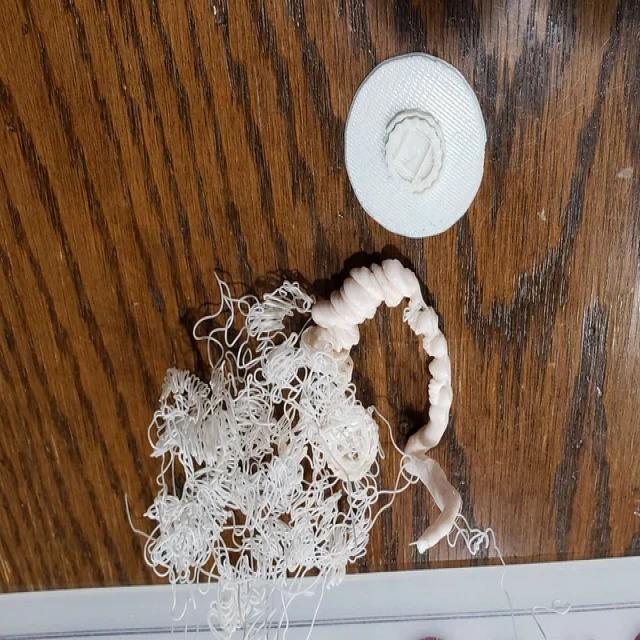Spaghetti: (139, 385, 284, 581), (224, 284, 308, 398), (290, 484, 366, 572), (312, 397, 372, 488), (212, 577, 292, 637)
